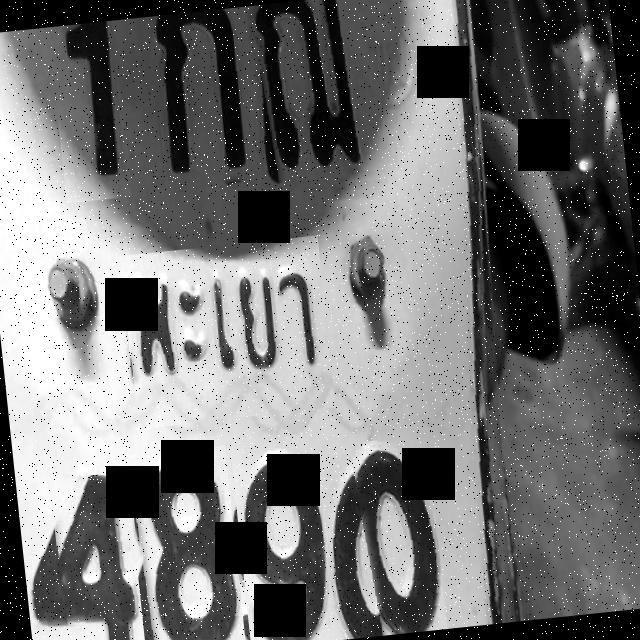letters: (250, 0, 375, 192), (127, 444, 246, 640), (230, 440, 337, 640), (348, 434, 447, 636), (148, 8, 250, 192), (47, 469, 146, 640), (48, 20, 132, 203)
license-plate: (0, 0, 508, 640)
province: (118, 235, 335, 429)
